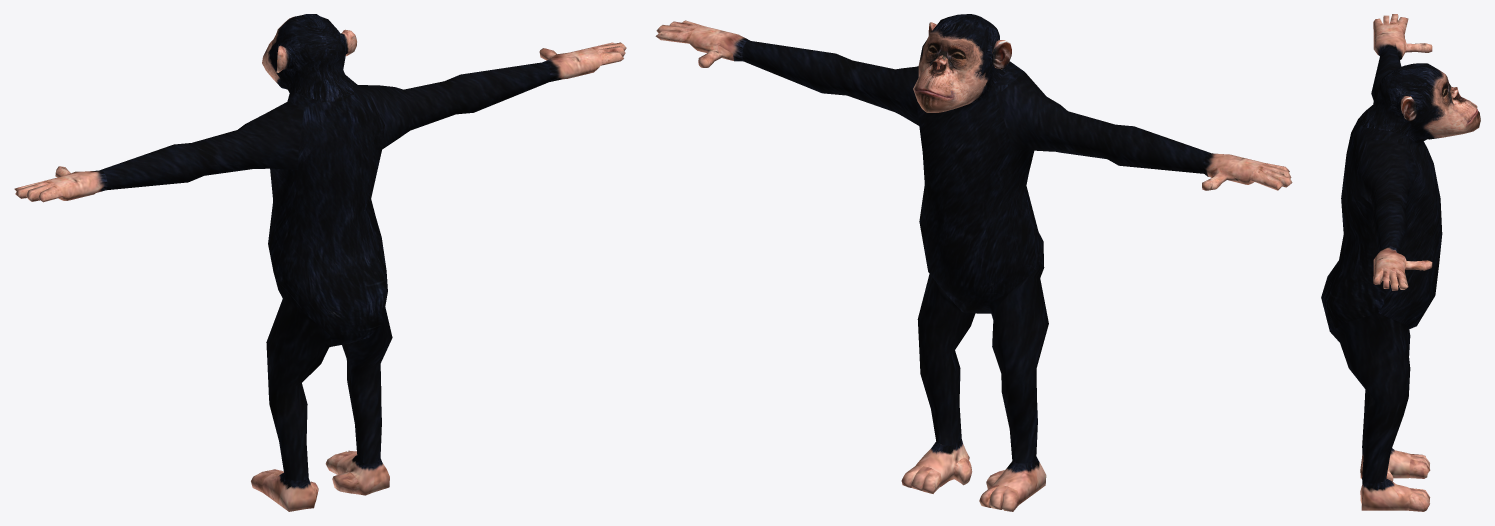
File: monkey (5).fbx
3 renders of one model, left to right at view 1: azimuth 30°, elevation 25°; view 2: azimuth 150°, elevation 25°; view 3: azimuth 270°, elevation 25°, orthographic. The views are drawn at different scales.
Visible parts, largest first — view 1: uploads_files_2173644_apeobj; view 2: uploads_files_2173644_apeobj; view 3: uploads_files_2173644_apeobj.
Part boxes in pixels (x1,y1,x2,y2): uploads_files_2173644_apeobj: [14, 14, 626, 511]; uploads_files_2173644_apeobj: [655, 14, 1292, 511]; uploads_files_2173644_apeobj: [1321, 14, 1480, 511].
Size of the model in its own units: 568 by 412 by 141.
Materials: 1 (1 with a texture image).
